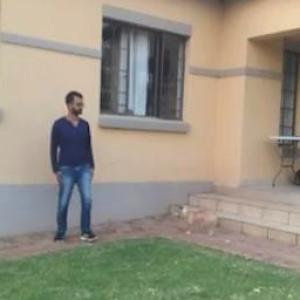follow: (46, 87, 98, 245)
